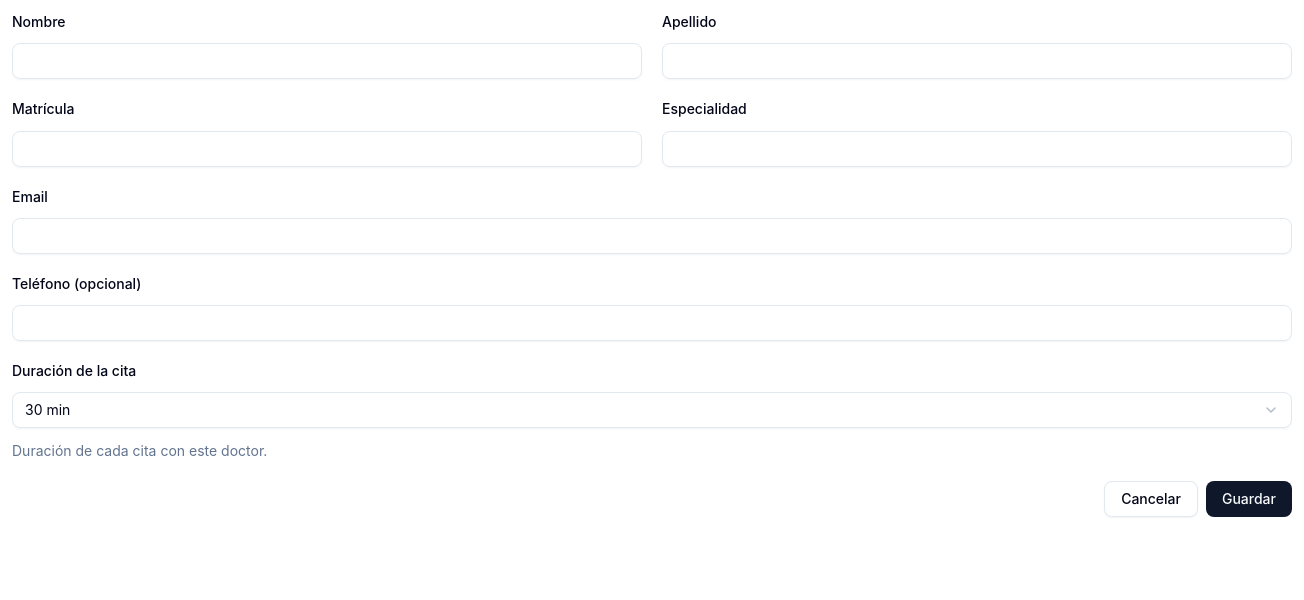
Test: DoctorForm › shows a 400 of the creation in an alert
Type "  Luis " into the field labelled "Nombre".
click(327, 61); type("  Luis ")  # box [12,43,642,79]
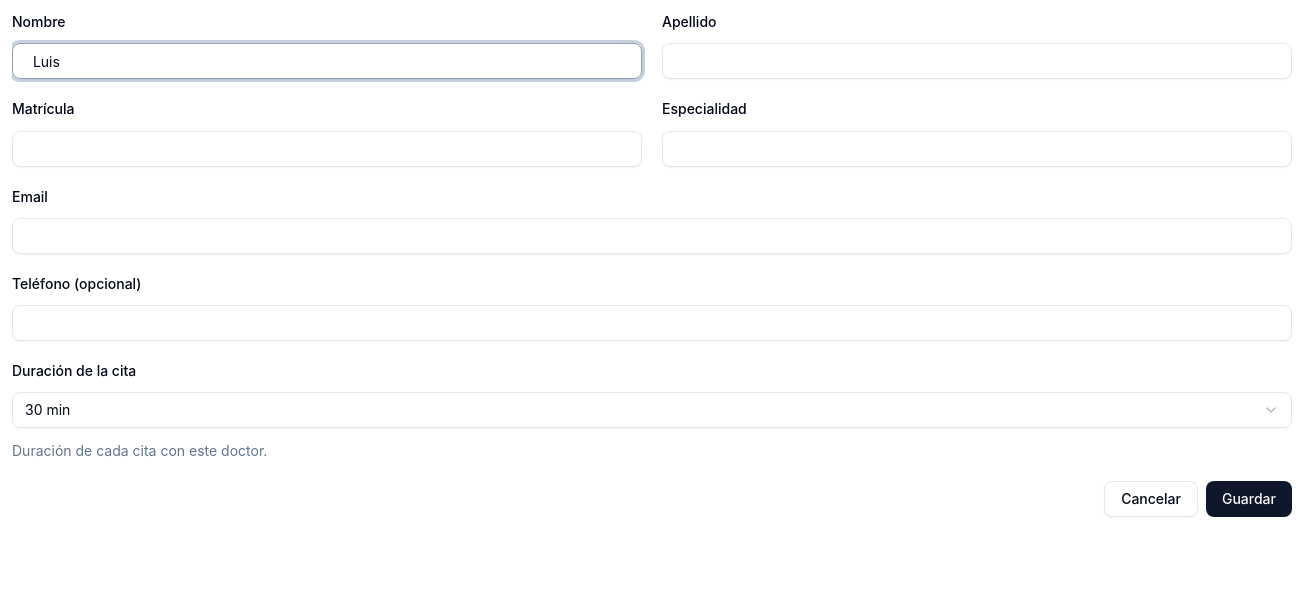
Type "Mora" into the field labelled "Apellido".
click(977, 61); type("Mora")  # box [662,43,1292,79]
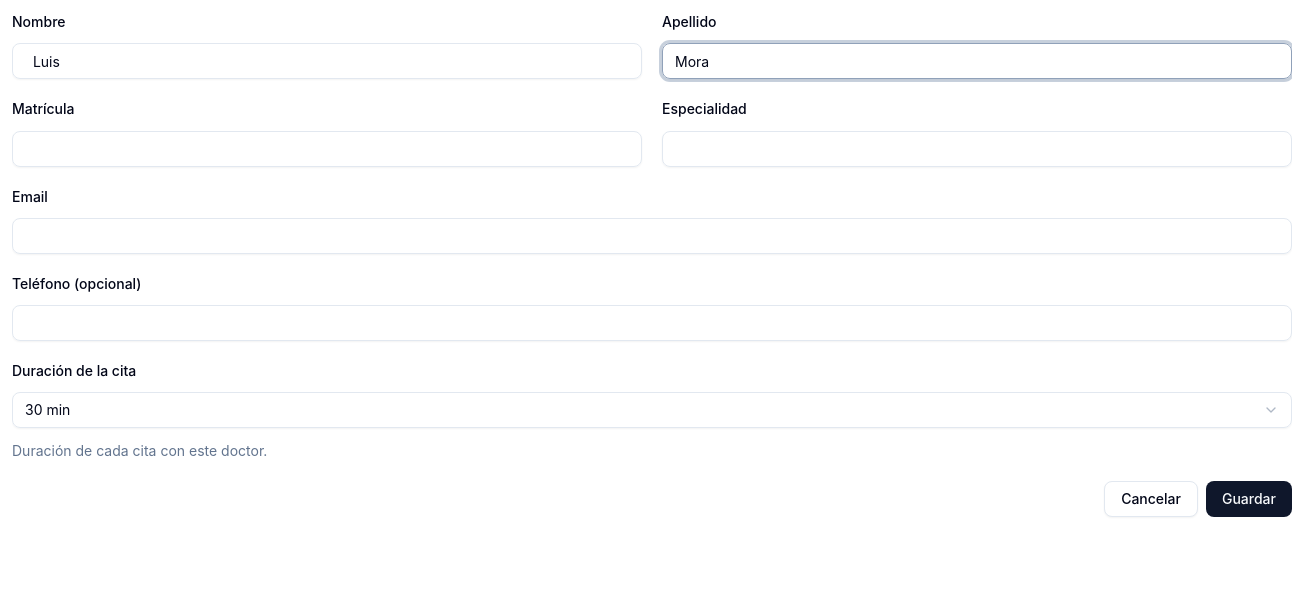
Type " mp-12345 " into the field labelled "Matrícula".
click(327, 148); type(" mp-12345 ")  # box [12,130,642,166]
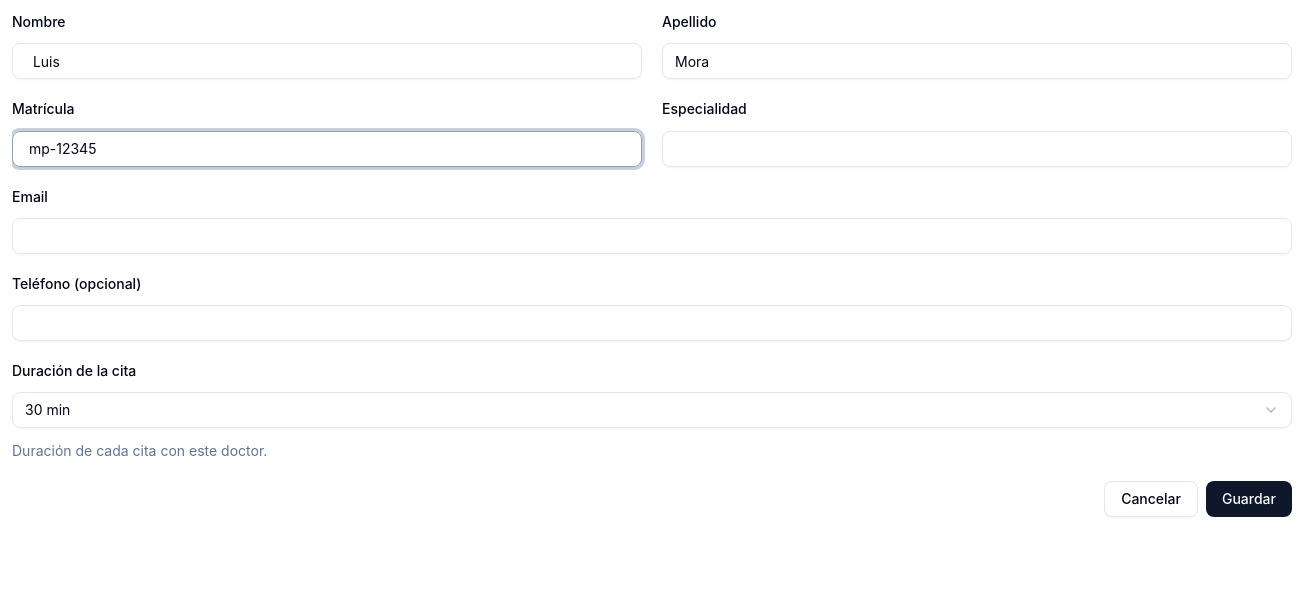
Type "Pediatría" into the field labelled "Especialidad".
click(977, 148); type("Pediatría")  # box [662,130,1292,166]
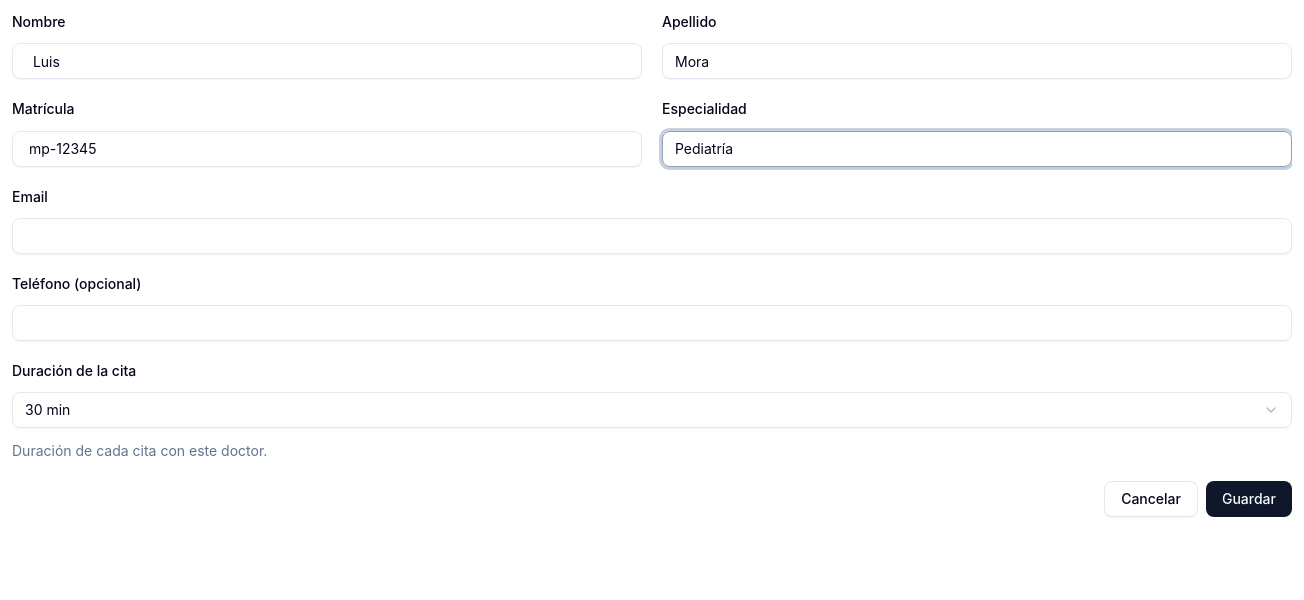
Type "luis.mora@dispensario.local" into the field labelled "Email".
click(652, 236); type("luis.mora@dispensario.local")  # box [12,218,1292,254]
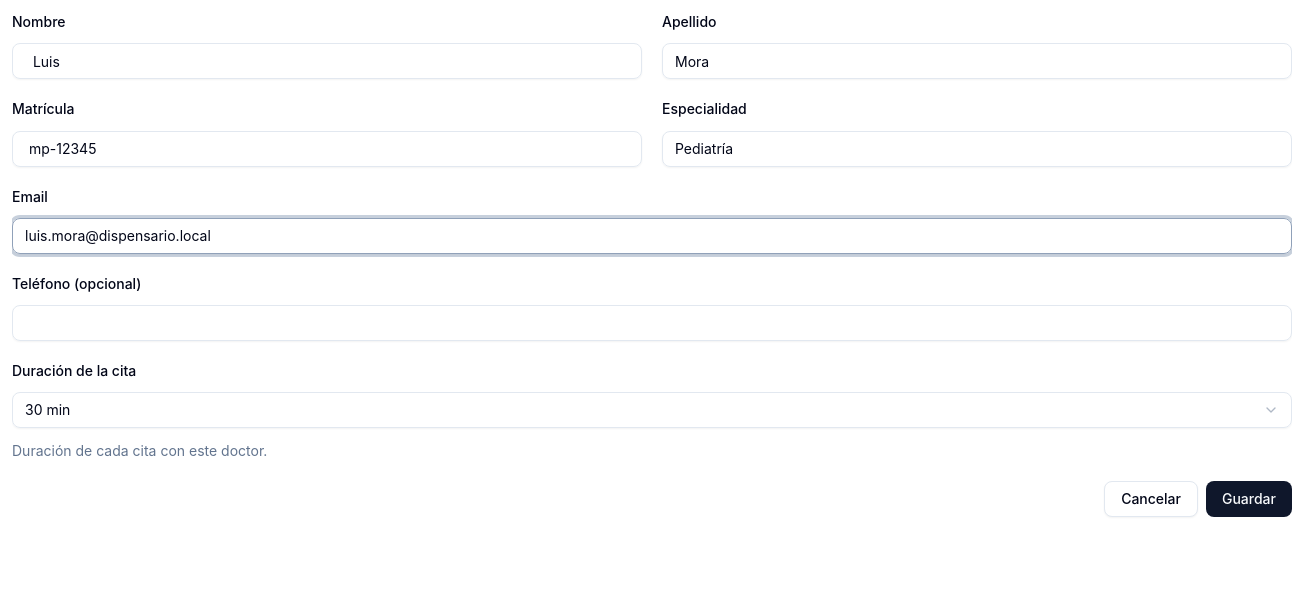
Click the button "Guardar".
click(1249, 499)  # box [1206,481,1292,517]
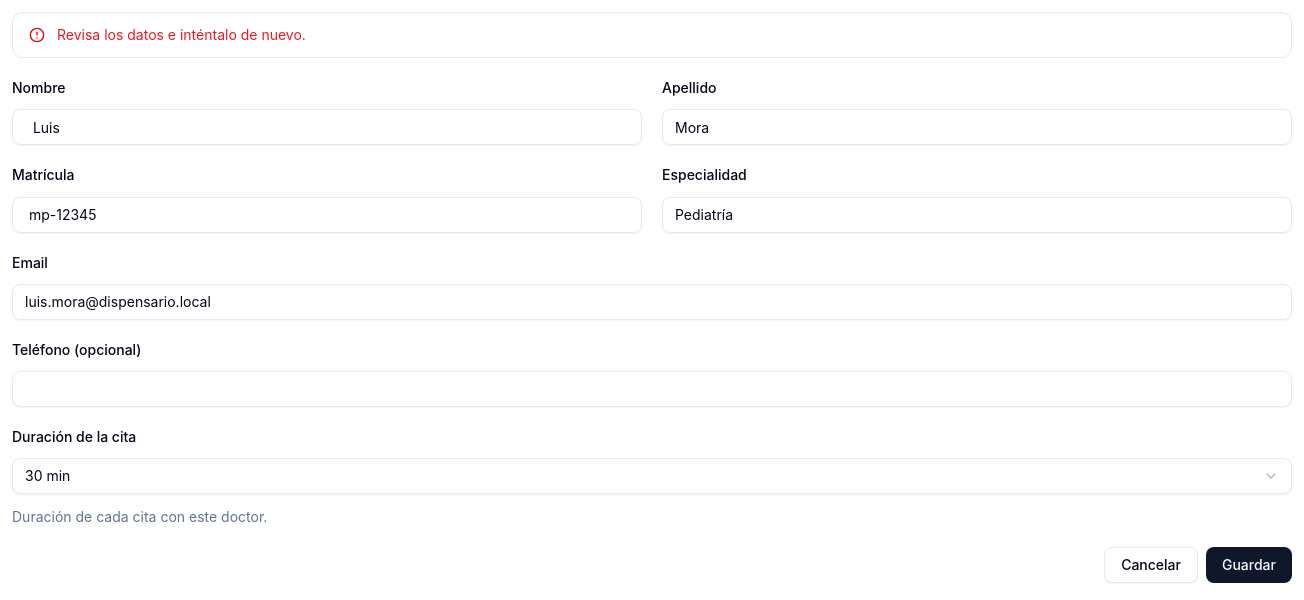
Expected: the message reads "Revisa los datos e inténtalo de nuevo.", [57,26,306,43]
